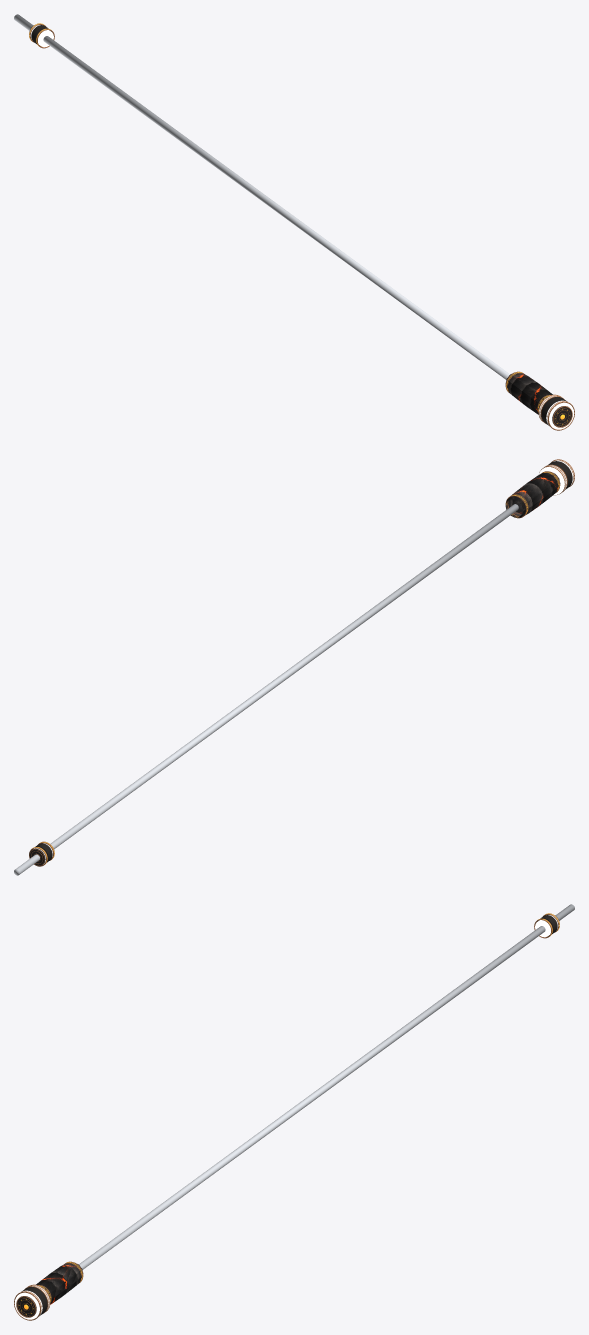
The model's file is fuzeball_rod_3man.glb.
3 renders of one model, top to bottom at view 1: azimuth 30°, elevation 25°; view 2: azimuth 150°, elevation 25°; view 3: azimuth 330°, elevation 25°, orthographic.
Parts seen in each view (by area): view 1: rod3_bar.002, rod3_handle_solar; view 2: rod3_bar.002, rod3_handle_solar; view 3: rod3_bar.002, rod3_handle_solar.
Part boxes in pixels (left/top/right/bottom): rod3_bar.002: left=14, top=14, right=509, bottom=379; rod3_handle_solar: left=505, top=373, right=552, bottom=414; rod3_bar.002: left=14, top=504, right=518, bottom=875; rod3_handle_solar: left=505, top=472, right=560, bottom=517; rod3_bar.002: left=79, top=904, right=574, bottom=1269; rod3_handle_solar: left=36, top=1263, right=83, bottom=1304.
Bounding box in the file's own units: 3.49 × 3.49 × 122.
6 materials, 1 textured.
